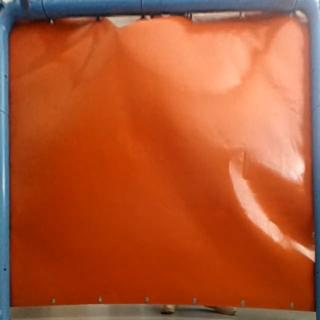Hit-hRxx: (111, 27, 127, 38)
